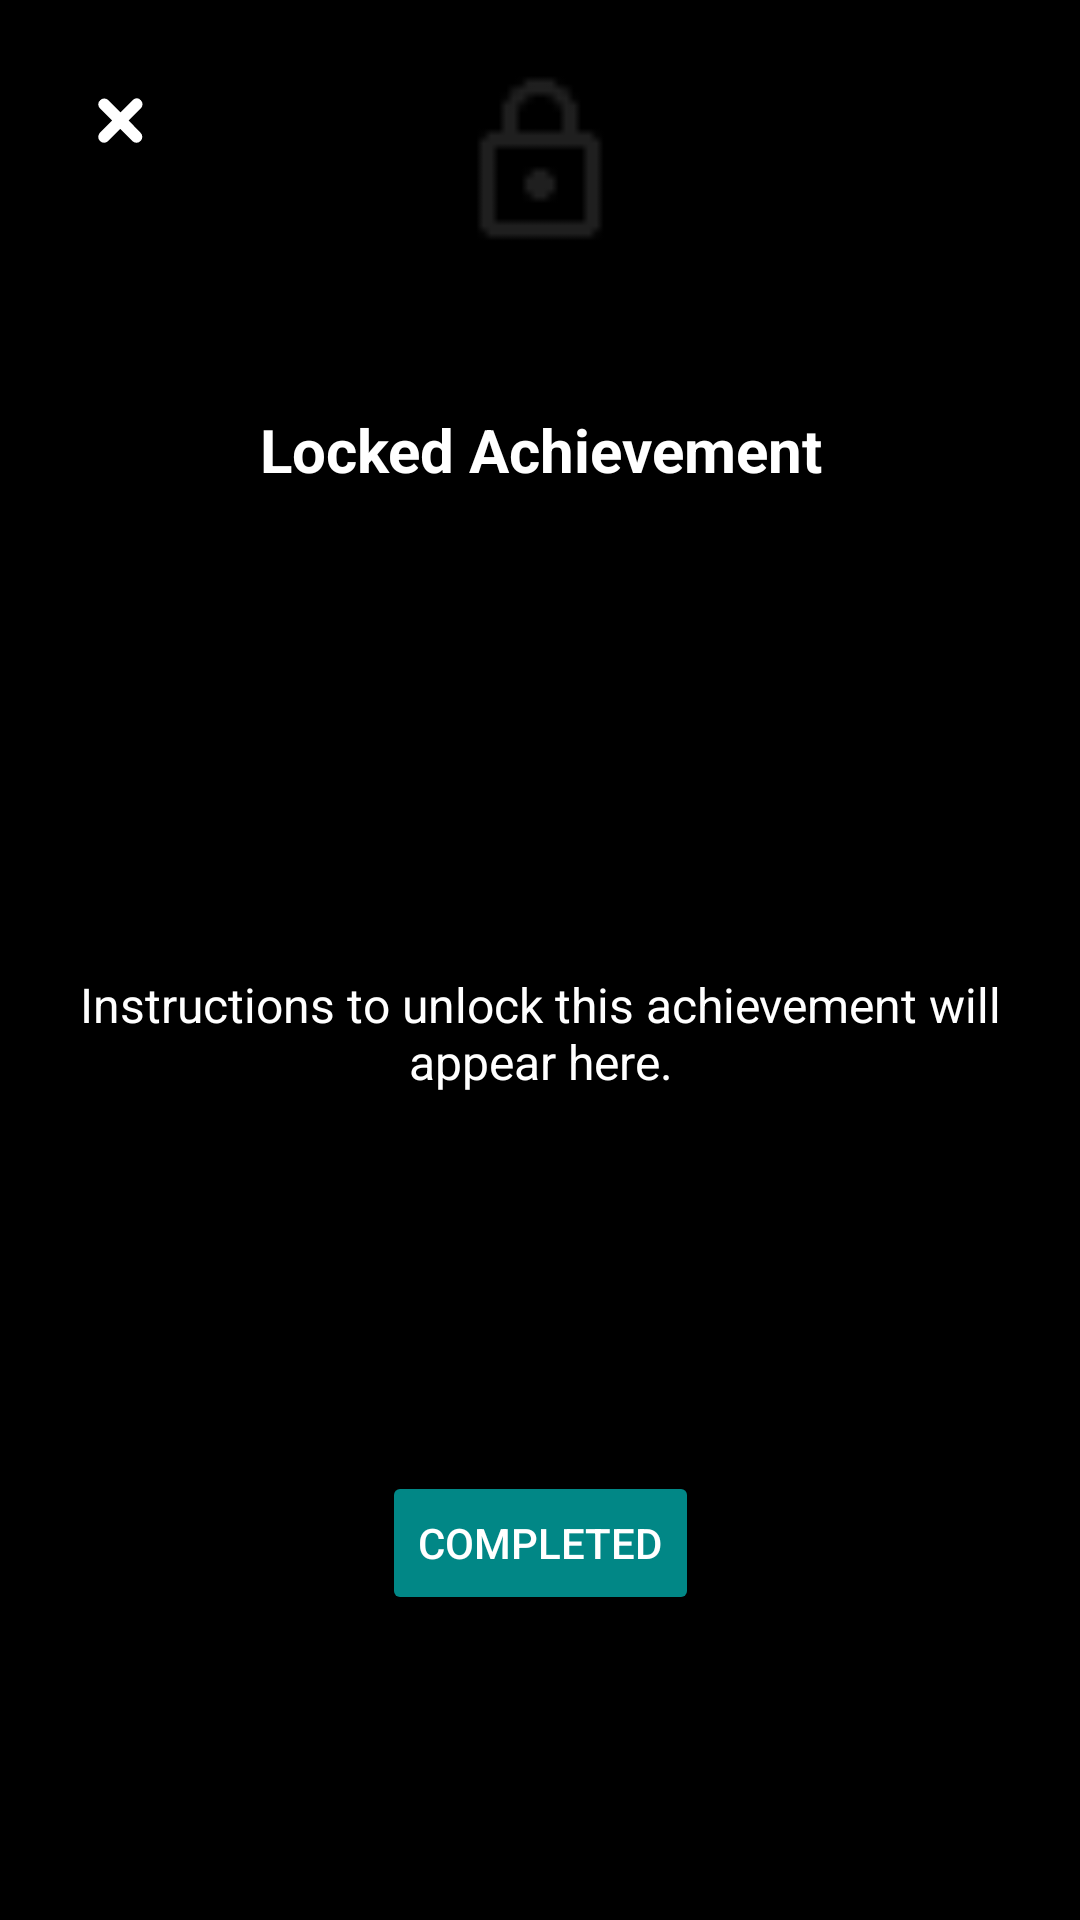

Screen size 1080px×1920px. Icon name, then its center in pixels as [x,y]:
Close: [120,120]
Lock Icon: [540,158]
